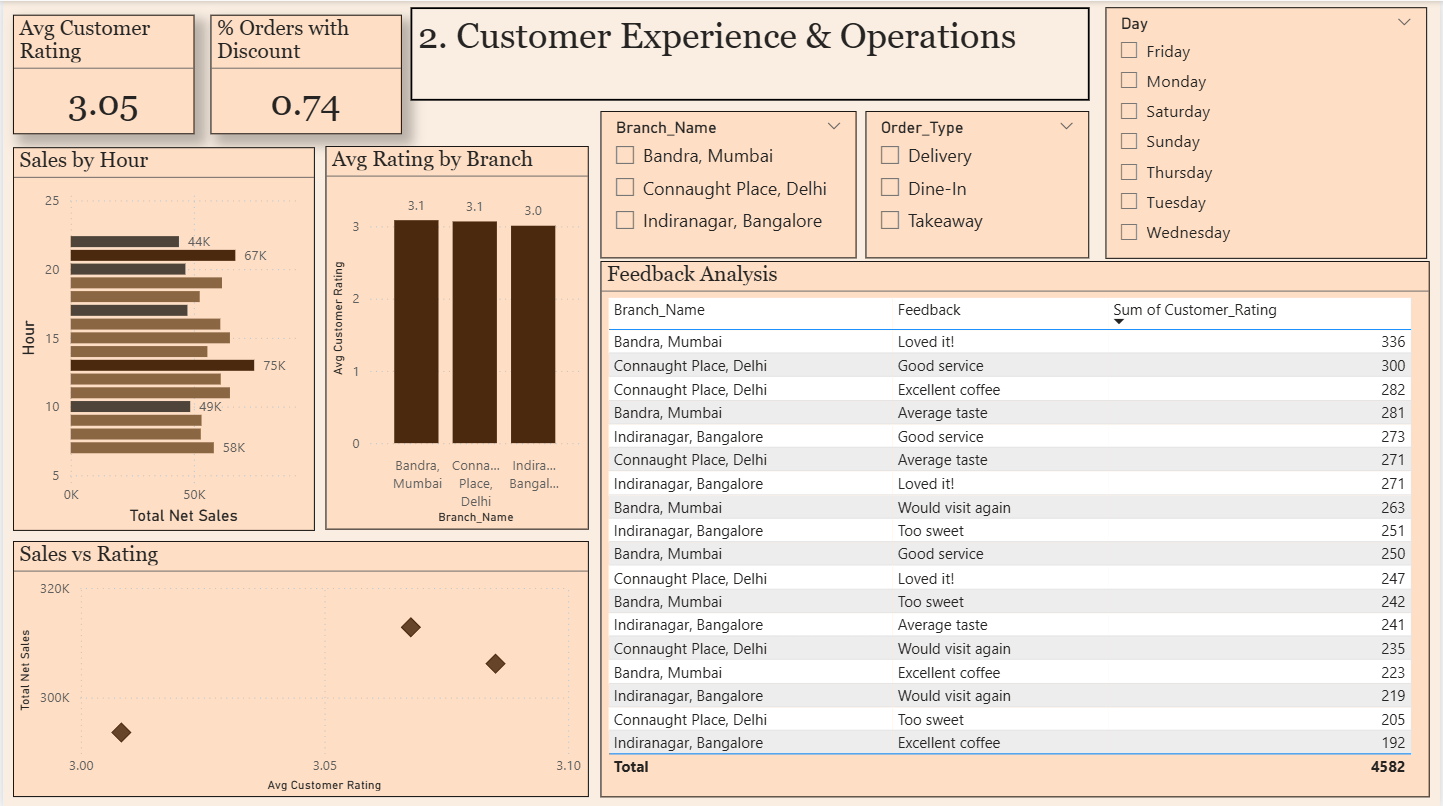

The dashboard page shown, as its layout file describes it:
{"tool":"powerbi","page":{"name":"Page 2","canvas":[1280,720],"ordinal":1},"visuals":[{"type":"card","title":"Avg Customer Rating","fields":{"Values":["Cafe Sales.Avg Customer Rating"]},"box":[8.4,12.1,161.7,106.2],"z":0},{"type":"card","title":"% Orders with Discount  ","fields":{"Values":["Cafe Sales.Discounted Orders %"]},"box":[184.6,12.1,170.1,106.2],"z":1},{"type":"clusteredBarChart","title":"Sales by Hour","fields":{"Category":["Cafe Sales.Hour"],"Y":["Cafe Sales.Total Net Sales"]},"box":[8.4,130.3,269,341.4],"z":2},{"type":"clusteredColumnChart","title":"Avg Rating by Branch","fields":{"Category":["Cafe Sales.Branch_Name"],"Y":["Cafe Sales.Avg Customer Rating"]},"box":[287.1,129.1,234,341.4],"z":3},{"type":"scatterChart","title":"Sales vs Rating ","fields":{"X":["Cafe Sales.Avg Customer Rating"],"Y":["Cafe Sales.Total Net Sales"],"Category":["Cafe Sales.Branch_Name"]},"box":[8.4,481.4,512.7,228],"z":4},{"type":"tableEx","title":"Feedback Analysis ","fields":{"Values":["Cafe Sales.Branch_Name","Cafe Sales.Feedback","Sum(Cafe Sales.Customer_Rating)"]},"box":[532,231.6,738.3,477.8],"z":5},{"type":"slicer","fields":{"Values":["Cafe Sales.Branch_Name"]},"box":[532,97.7,228,131.5],"z":6},{"type":"slicer","fields":{"Values":["Cafe Sales.Order_Type"]},"box":[768.5,97.7,199.1,131.5],"z":7},{"type":"slicer","fields":{"Values":["Cafe Sales.Day"]},"box":[982,6,286,224],"z":8},{"type":"textbox","box":[363.1,6,604.4,83.2],"z":9}]}

Visuals, with their boxes in screenshot pixels (x1, y1, x2, y2), scaled from the page's 1280x720 canvas onto the 1443x806 screenshot:
"Avg Customer Rating" card: region(9, 14, 192, 132)
"% Orders with Discount  " card: region(208, 14, 400, 132)
"Sales by Hour" clusteredBarChart: region(9, 146, 313, 528)
"Avg Rating by Branch" clusteredColumnChart: region(324, 145, 587, 527)
"Sales vs Rating " scatterChart: region(9, 539, 587, 794)
"Feedback Analysis " tableEx: region(600, 259, 1432, 794)
slicer - Cafe Sales.Branch_Name: region(600, 109, 857, 257)
slicer - Cafe Sales.Order_Type: region(866, 109, 1091, 257)
slicer - Cafe Sales.Day: region(1107, 7, 1429, 257)
textbox: region(409, 7, 1091, 100)
